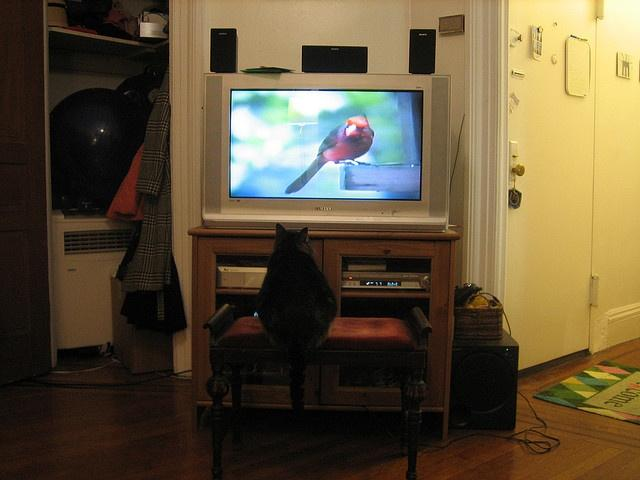AIO PC-Monitor-TV: (202, 73, 450, 232)
